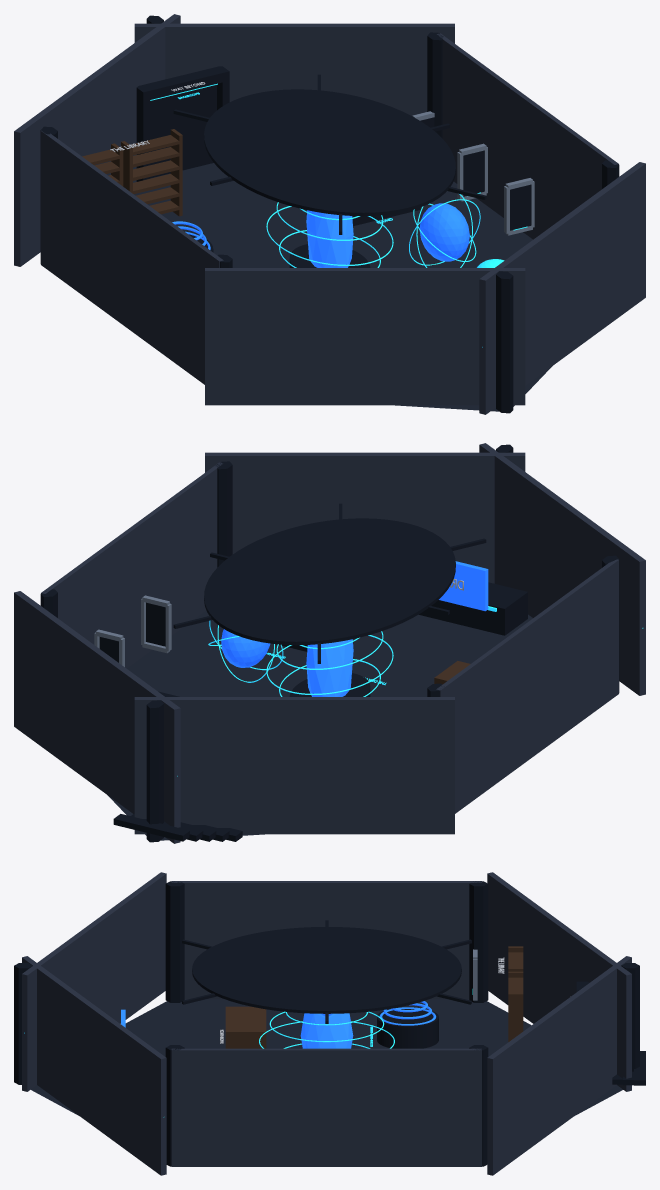
3 views of the same model, one above another, from view 1: azimuth 30°, elevation 25°; view 2: azimuth 150°, elevation 25°; view 3: azimuth 270°, elevation 25° (orthographic). The views are drawn at different scales.
Parts seen in each view (by area): view 1: HEX_WALL_4, CENTRAL_CEILING_RING, HEX_WALL_3, HEX_WALL_5, HEX_WALL_1, DRAVYA_HEXAGONAL_FLOOR, HEX_WALL_6, HEX_WALL_2, PORTAL_BACKROOMS, HEX_COLUMN_5, EXHIBIT_DRAVYA_FIELD, EXHIBIT_GEOCHRONOLOGY (+7 smaller); view 2: HEX_WALL_2, CENTRAL_CEILING_RING, HEX_WALL_3, HEX_WALL_5, HEX_WALL_1, HEX_WALL_6, DRAVYA_HEXAGONAL_FLOOR, HEX_WALL_4, RECEPTION_BASE, HEX_COLUMN_2, EXHIBIT_DRAVYA_FIELD, RECEPTION_BACK_PANEL (+5 smaller); view 3: HEX_WALL_6, CENTRAL_CEILING_RING, HEX_WALL_3, HEX_WALL_5, HEX_WALL_1, HEX_WALL_4, HEX_WALL_2, DRAVYA_HEXAGONAL_FLOOR, HEX_COLUMN_4, HEX_COLUMN_3, EXHIBIT_ZDC, EXHIBIT_FICTION (+6 smaller).
Part boxes in pixels (x1,y1,x2,y2): HEX_WALL_4: [205, 268, 525, 405]; CENTRAL_CEILING_RING: [204, 89, 455, 216]; HEX_WALL_3: [41, 130, 223, 384]; HEX_WALL_5: [479, 162, 645, 414]; HEX_WALL_1: [134, 23, 454, 115]; DRAVYA_HEXAGONAL_FLOOR: [134, 163, 552, 411]; HEX_WALL_6: [437, 33, 618, 239]; HEX_WALL_2: [14, 14, 180, 266]; PORTAL_BACKROOMS: [150, 85, 216, 178]; HEX_COLUMN_5: [496, 271, 513, 413]; EXHIBIT_DRAVYA_FIELD: [306, 210, 353, 267]; EXHIBIT_GEOCHRONOLOGY: [419, 203, 469, 261]; HEX_WALL_2: [134, 697, 454, 834]; CENTRAL_CEILING_RING: [204, 518, 455, 645]; HEX_WALL_3: [436, 559, 618, 813]; HEX_WALL_5: [205, 452, 525, 583]; HEX_WALL_1: [14, 591, 180, 843]; HEX_WALL_6: [41, 462, 222, 668]; DRAVYA_HEXAGONAL_FLOOR: [107, 610, 532, 840]; HEX_WALL_4: [479, 443, 645, 695]; RECEPTION_BASE: [418, 582, 527, 635]; HEX_COLUMN_2: [146, 700, 163, 842]; EXHIBIT_DRAVYA_FIELD: [306, 639, 353, 696]; RECEPTION_BACK_PANEL: [439, 561, 488, 611]; HEX_WALL_6: [171, 1048, 481, 1166]; CENTRAL_CEILING_RING: [192, 927, 461, 1013]; HEX_WALL_3: [171, 881, 481, 999]; HEX_WALL_5: [22, 956, 166, 1175]; HEX_WALL_1: [487, 956, 631, 1175]; HEX_WALL_4: [22, 872, 166, 1091]; HEX_WALL_2: [487, 872, 631, 1091]; DRAVYA_HEXAGONAL_FLOOR: [31, 999, 622, 1115]; HEX_COLUMN_4: [165, 881, 184, 1002]; HEX_COLUMN_3: [469, 881, 488, 1002]; EXHIBIT_ZDC: [377, 1007, 438, 1048]; EXHIBIT_FICTION: [225, 1006, 266, 1048].
Bounding box in the file's own units: 136 × 41.95 × 193.
